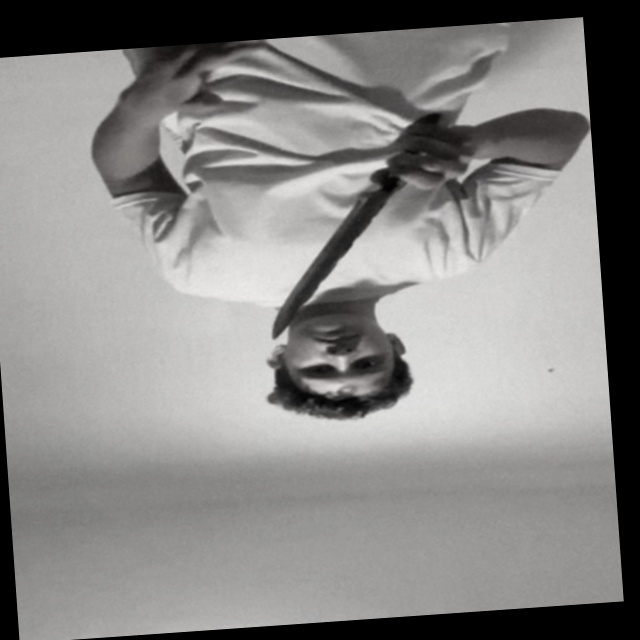Sharp-Object: (264, 190, 401, 336)
